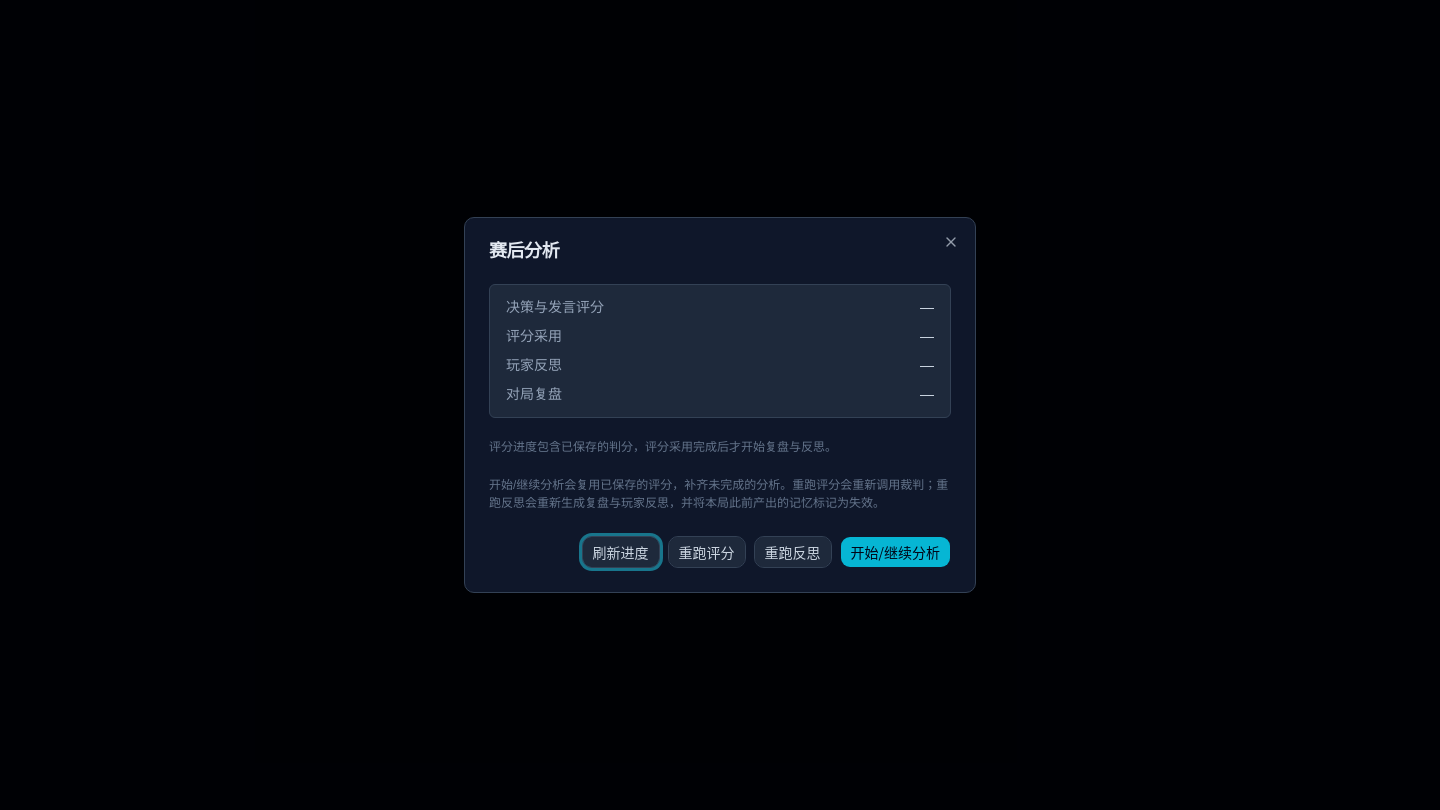
Test case: AnalysisDialog › 投递成功会作废尚未返回的旧进度请求
Click the button "开始/继续分析".
click(895, 552)  # box [840,536,951,568]
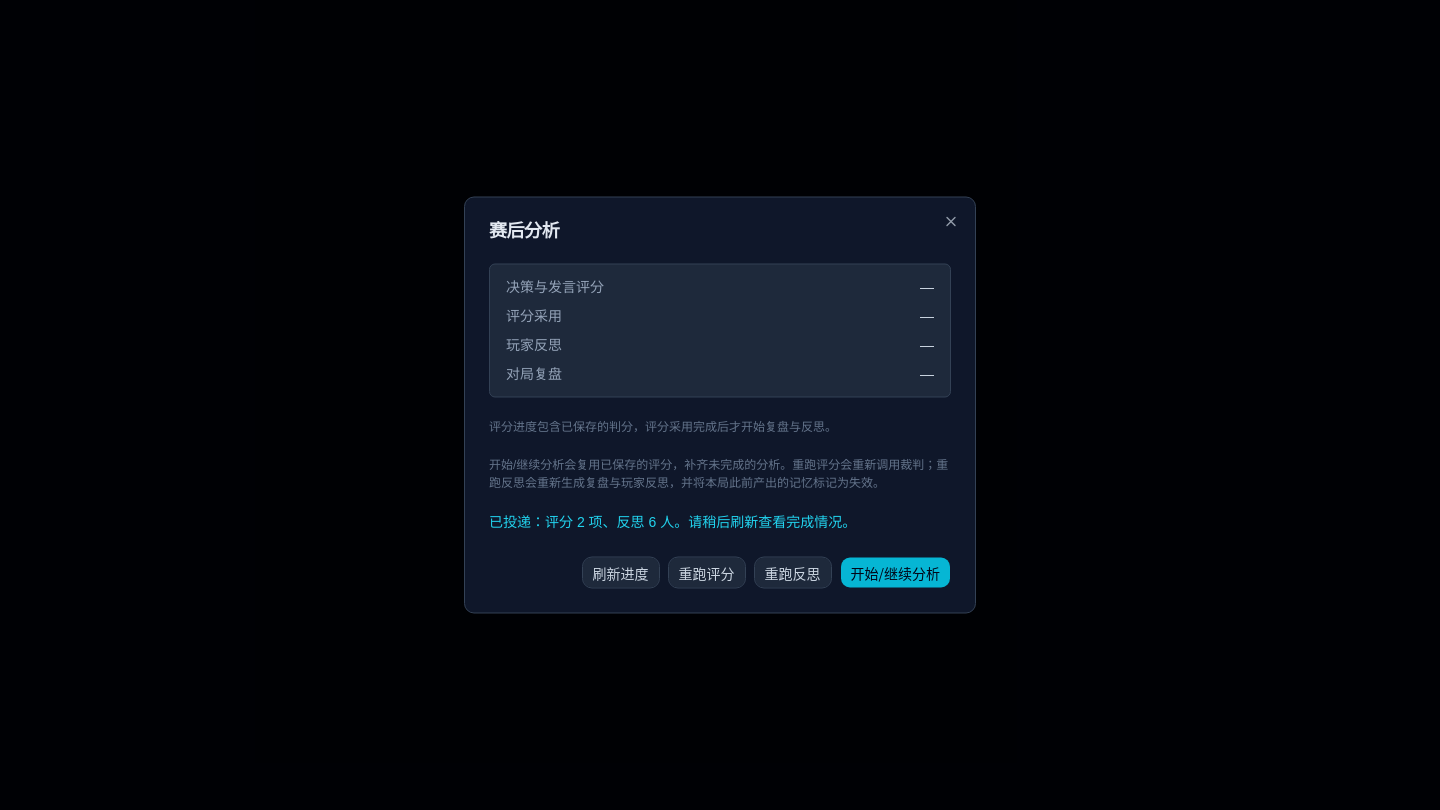
Expected: the text "—" is shown 4 times, [920,276,934,298]; [920,306,934,326]; [920,334,934,356]; [920,364,934,384]
Expected: the text "已投递：评分 2 项、反思 6 人。请稍后刷新查看完成情况。" is shown, [489,514,856,530]
